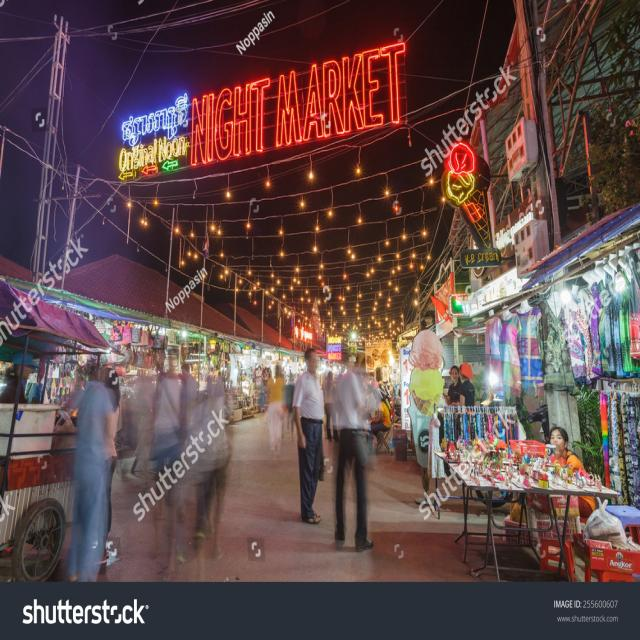body: (131, 346, 238, 574), (54, 346, 115, 572), (333, 358, 380, 553), (290, 346, 328, 526), (98, 366, 122, 565), (549, 425, 596, 518), (267, 361, 297, 455), (0, 349, 42, 404), (322, 369, 341, 444), (368, 391, 393, 448), (27, 369, 54, 402), (455, 362, 475, 406), (446, 364, 463, 406)
